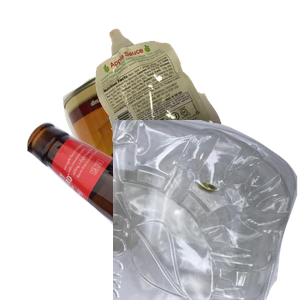glass: (25, 120, 265, 300)
metal: (60, 58, 300, 238)
plastic: (113, 120, 300, 300)
trash: (93, 26, 300, 200)
